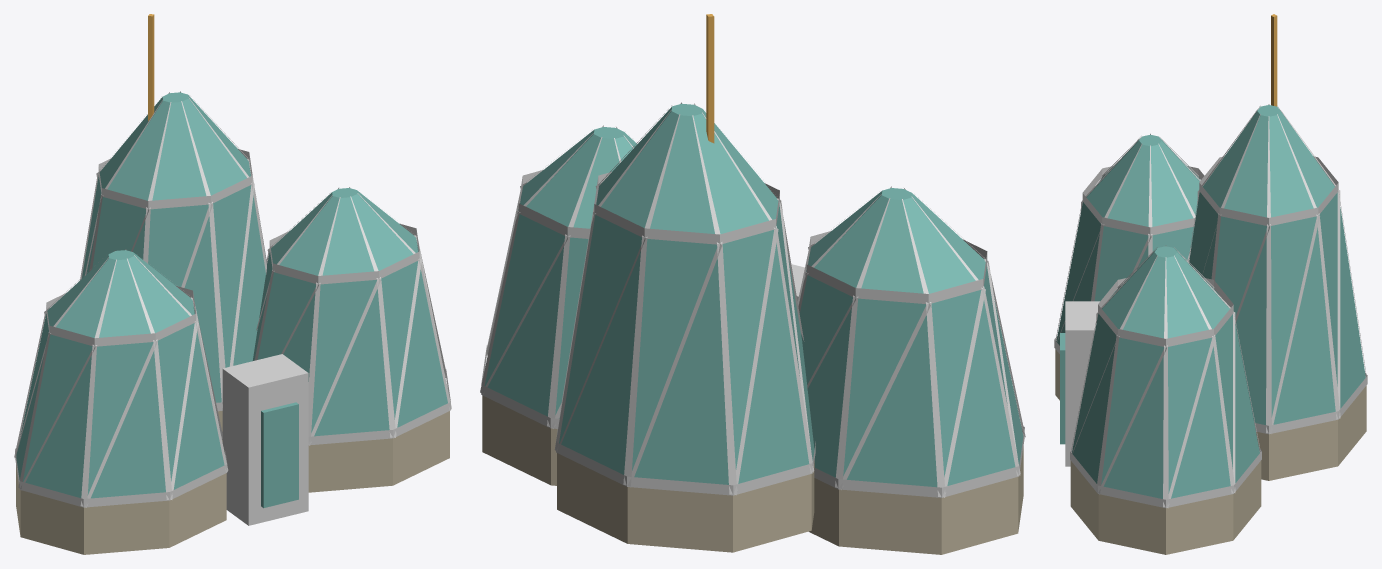
File: space_town.glb
The picture shows the model from 3 angles, left to right: view 1: azimuth 30°, elevation 25°; view 2: azimuth 150°, elevation 25°; view 3: azimuth 270°, elevation 25°; orthographic projection. The views are drawn at different scales.
Parts seen in each view (by area): view 1: FixedDetails, WoodBody, BrassTrim; view 2: FixedDetails, WoodBody, BrassTrim; view 3: FixedDetails, WoodBody, BrassTrim.
Boxes of the visible parts, <box> form: FixedDetails: <box>16,92,449,554</box>; WoodBody: <box>14,91,451,525</box>; BrassTrim: <box>148,14,154,120</box>; FixedDetails: <box>482,103,1023,554</box>; WoodBody: <box>480,102,1025,497</box>; BrassTrim: <box>706,14,714,143</box>; FixedDetails: <box>1055,105,1366,554</box>; WoodBody: <box>1054,104,1367,508</box>; BrassTrim: <box>1271,14,1277,106</box>.
Size of the model in its own units: 0.394 by 0.374 by 0.249.
